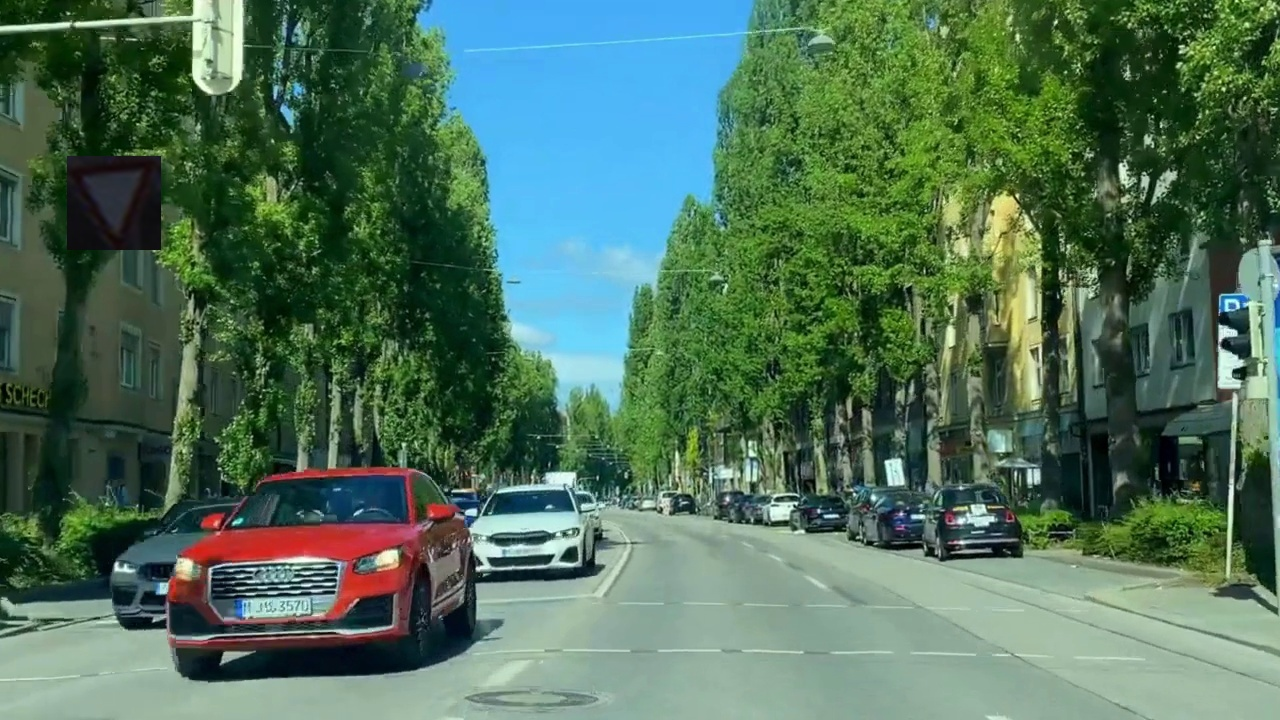Yield: (67, 156, 161, 250)
